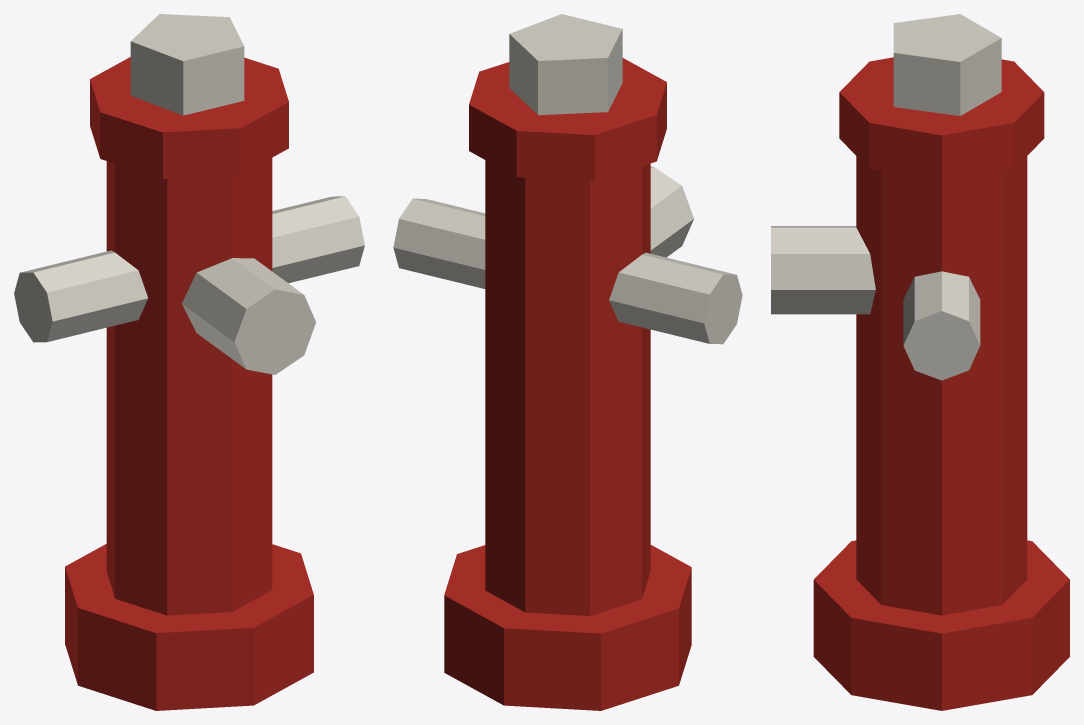
Rendered from hydrant.glb.
3 renders of one model, left to right at view 1: azimuth 30°, elevation 25°; view 2: azimuth 150°, elevation 25°; view 3: azimuth 270°, elevation 25°, orthographic.
Parts seen in each view (by area): view 1: hydrant; view 2: hydrant; view 3: hydrant.
Part boxes in pixels (box(x1,y1,x2,y2)): hydrant: box(14, 14, 364, 710); hydrant: box(393, 14, 742, 710); hydrant: box(771, 14, 1069, 710).
Size of the model in its own units: 0.42 by 0.8 by 0.35.
